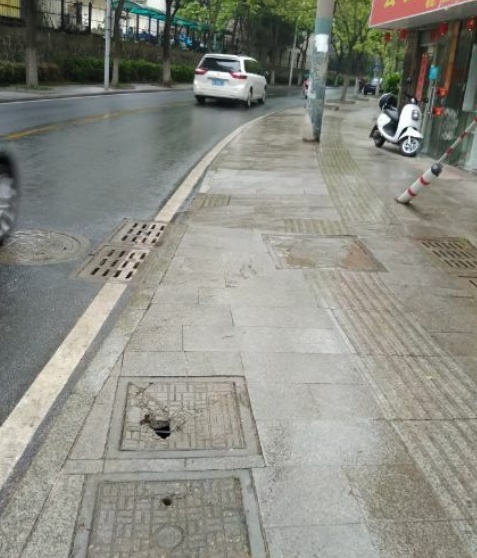broke: (65, 468, 271, 558), (101, 375, 266, 457)
